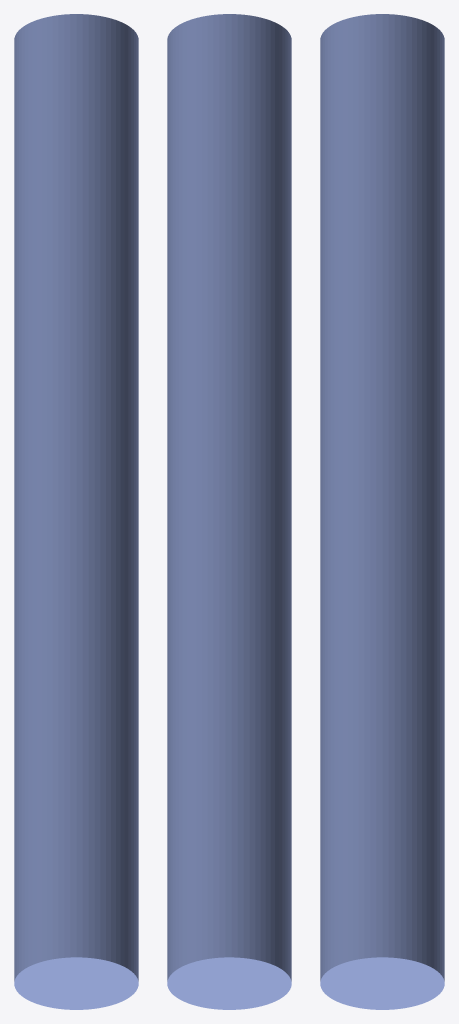
File: inside_tube_1.glb
The picture shows the model from 3 angles, left to right: view 1: azimuth 90°, elevation 25°; view 2: azimuth 150°, elevation 25°; view 3: azimuth 270°, elevation 25°; orthographic projection.
Parts seen in each view (by area): view 1: Cylinder; view 2: Cylinder; view 3: Cylinder.
Boxes of the visible parts, <box> form: Cylinder: <box>14,14,138,1009</box>; Cylinder: <box>167,14,291,1009</box>; Cylinder: <box>320,14,444,1009</box>.
Size of the model in its own units: 19.94 by 167 by 19.94.
